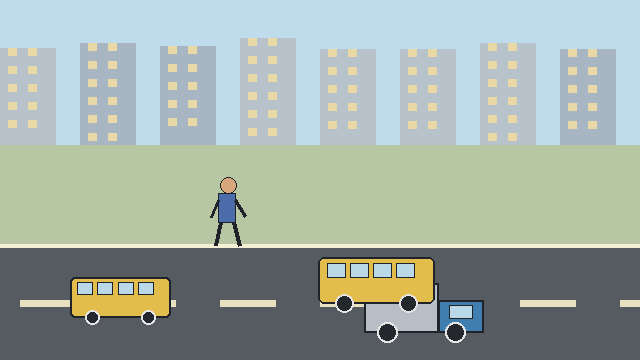bus: (318, 257, 434, 312), (70, 277, 170, 324)
person: (211, 177, 247, 247)
truck: (364, 283, 483, 342)
